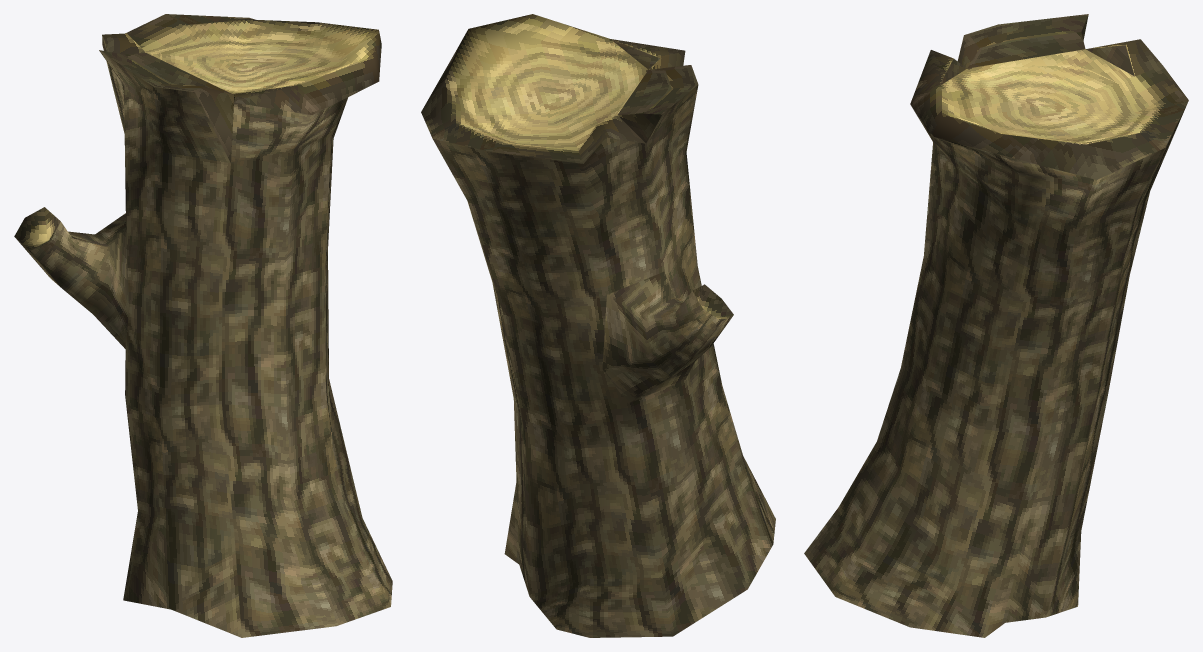
File: INST_HTOWN_FLOATINGLOG.fbx
3 views of the same model, side by side, from view 1: azimuth 30°, elevation 25°; view 2: azimuth 150°, elevation 25°; view 3: azimuth 270°, elevation 25° (orthographic).
Visible parts, largest first — view 1: INST_HTOWN_FLOATINGLOG; view 2: INST_HTOWN_FLOATINGLOG; view 3: INST_HTOWN_FLOATINGLOG.
Boxes of the visible parts, bbox=[...] form: INST_HTOWN_FLOATINGLOG: bbox=[14, 14, 392, 637]; INST_HTOWN_FLOATINGLOG: bbox=[421, 14, 775, 637]; INST_HTOWN_FLOATINGLOG: bbox=[804, 14, 1188, 637].
Size of the model in its own units: 12849 by 21119 by 13624.
2 materials, 2 textured.
